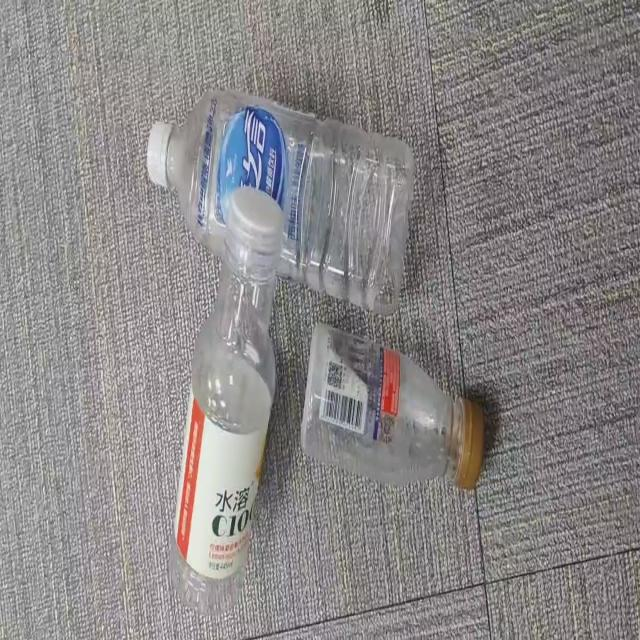bottle: (146, 91, 416, 315), (171, 184, 285, 610), (300, 324, 482, 487)
